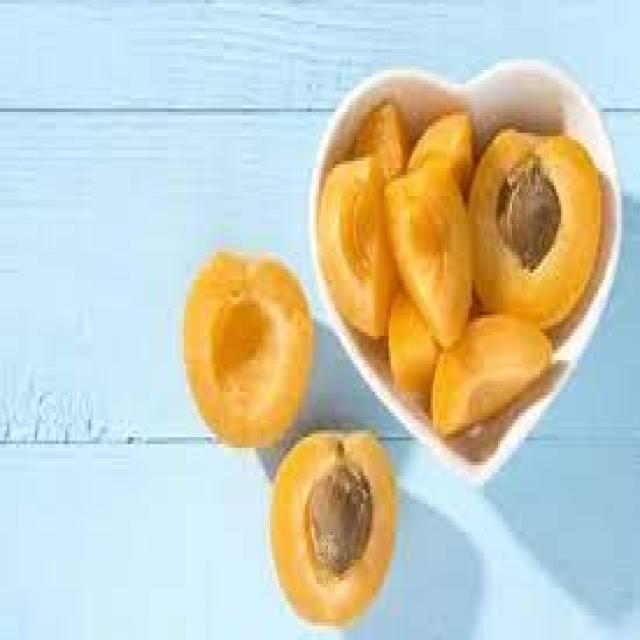Cekirdek: (496, 157, 559, 266)
Kayisi: (386, 157, 470, 343)
